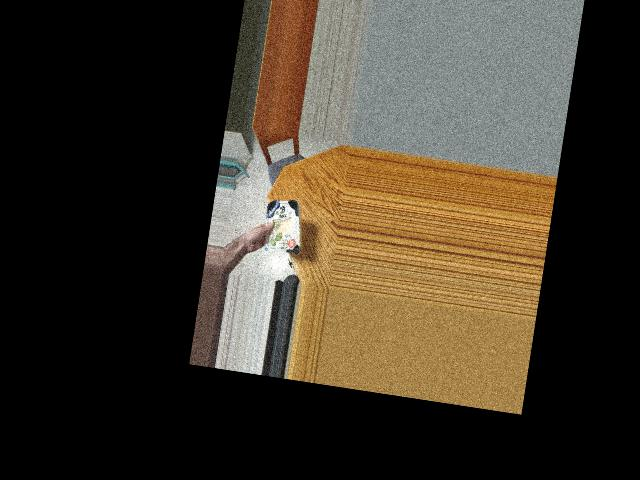cheese: (262, 197, 300, 250)
